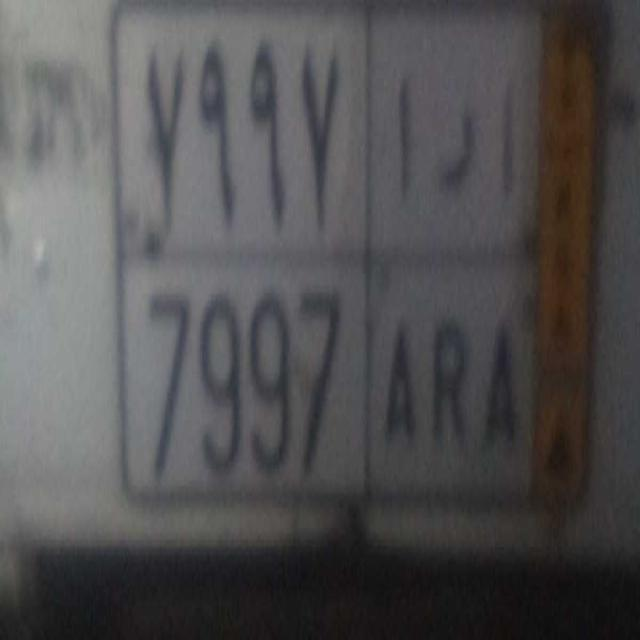license_plate: (116, 254, 540, 517)
